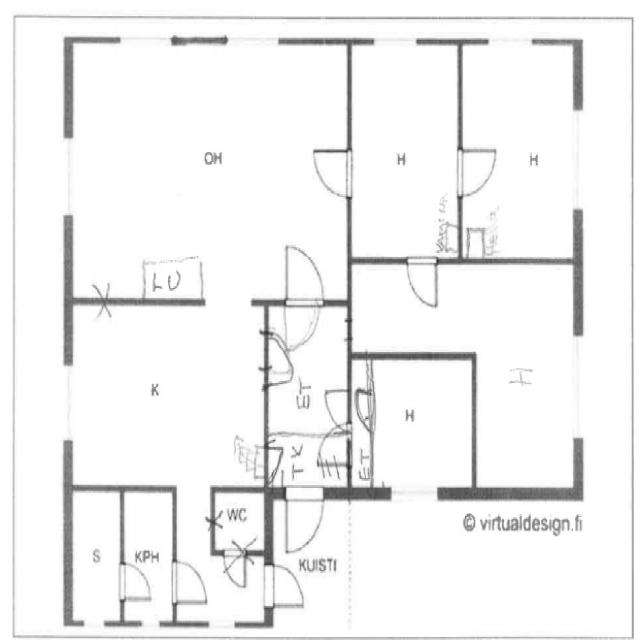door: (118, 486, 175, 624), (276, 240, 327, 349), (282, 480, 328, 554), (305, 139, 358, 203), (452, 138, 501, 202), (402, 250, 443, 314), (264, 558, 310, 610), (114, 557, 159, 608), (168, 555, 211, 608), (262, 328, 295, 388), (322, 383, 353, 442), (220, 545, 251, 591)
window: (566, 100, 592, 218), (568, 324, 591, 446), (55, 124, 79, 228), (57, 354, 79, 452), (113, 25, 180, 54), (219, 25, 286, 54), (383, 479, 444, 508), (364, 29, 424, 53), (480, 31, 539, 52), (203, 615, 239, 634), (78, 615, 108, 632)
zone: (65, 42, 351, 306), (68, 301, 268, 488), (454, 36, 580, 260), (346, 38, 463, 261), (350, 354, 476, 494), (264, 305, 352, 463), (120, 485, 174, 632), (69, 484, 123, 624), (211, 488, 267, 554)
